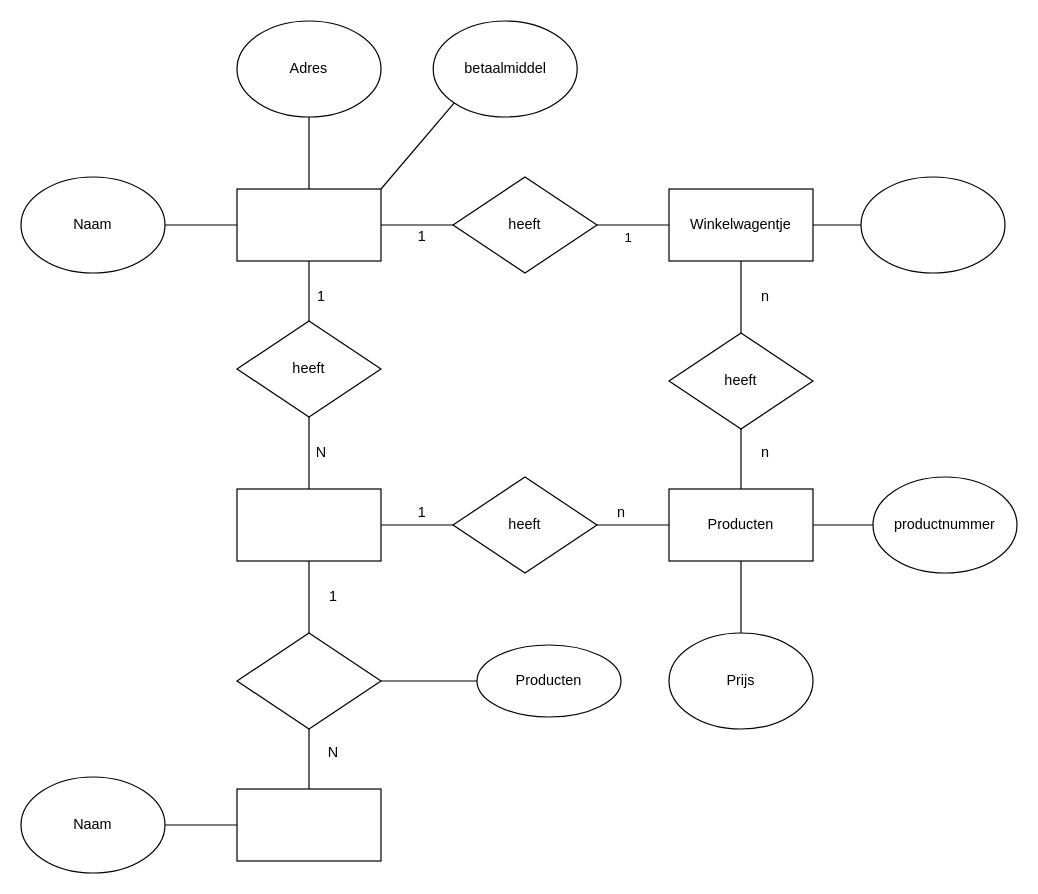
The diagram is 1038 pixels wide and 894 high, and some of its shapes have lost their labels. Here are the shapes that lost their labels. From the top down, the box of each, then its label:
(236, 188, 381, 261): klant
(860, 176, 1005, 273): Lijst Producten
(236, 488, 381, 561): Tennis Webshop
(236, 632, 381, 729): Onderhoud
(236, 788, 381, 861): Medewerker
